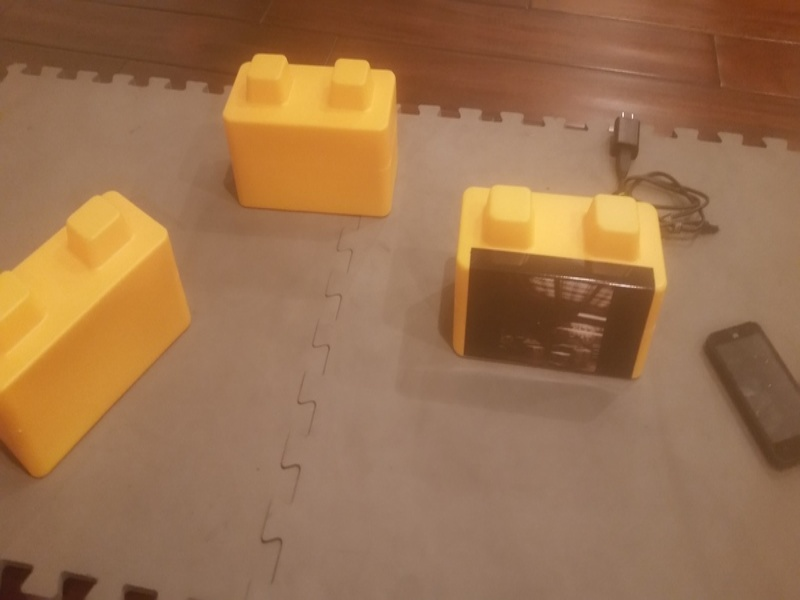Skystone: (450, 183, 668, 389)
Stone: (1, 192, 195, 492), (223, 54, 405, 221)
